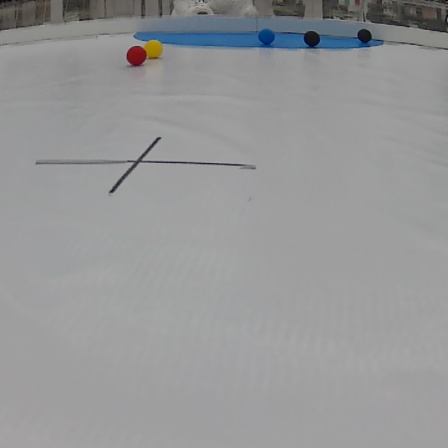black: (301, 31, 322, 47), (355, 27, 375, 43)
blue: (258, 27, 277, 46)
blue_base: (130, 31, 402, 50)
red: (124, 47, 149, 68)
yellow: (142, 39, 167, 61)
